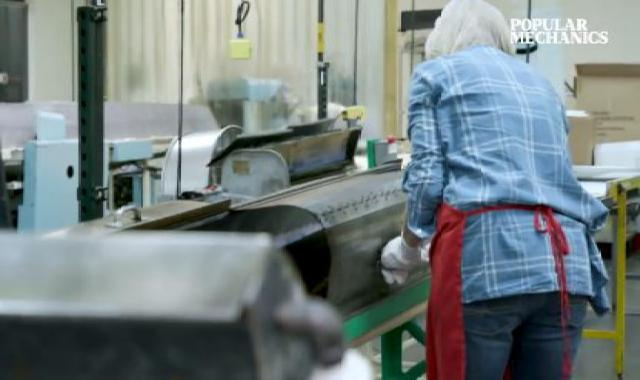Apron: (426, 190, 587, 380)
Glove: (375, 229, 425, 286)
Hairnet: (421, 2, 519, 60)
